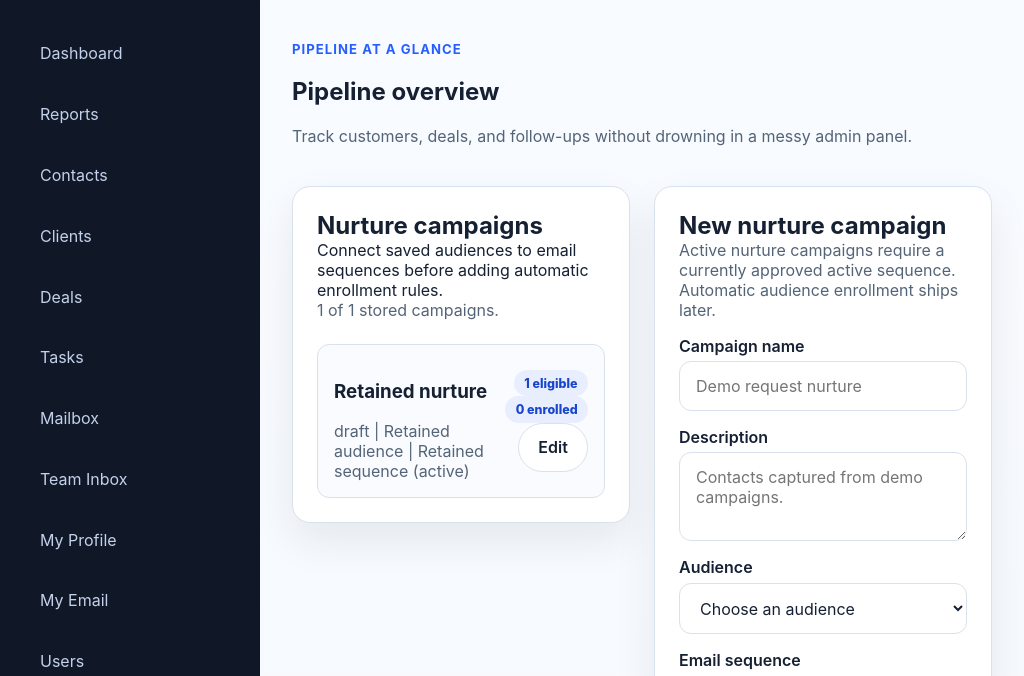
Test: settings nurture campaigns route › disables only new creation at the server-disclosed capacity
This screenshot has width=1024, height=676.
Expected: the text "1 of 1 stored campaigns." is shown, x1=317 y1=300 x2=499 y2=320
Click the button "Edit": (553, 447) x1=518 y1=423 x2=588 y2=472
(page scrolled)
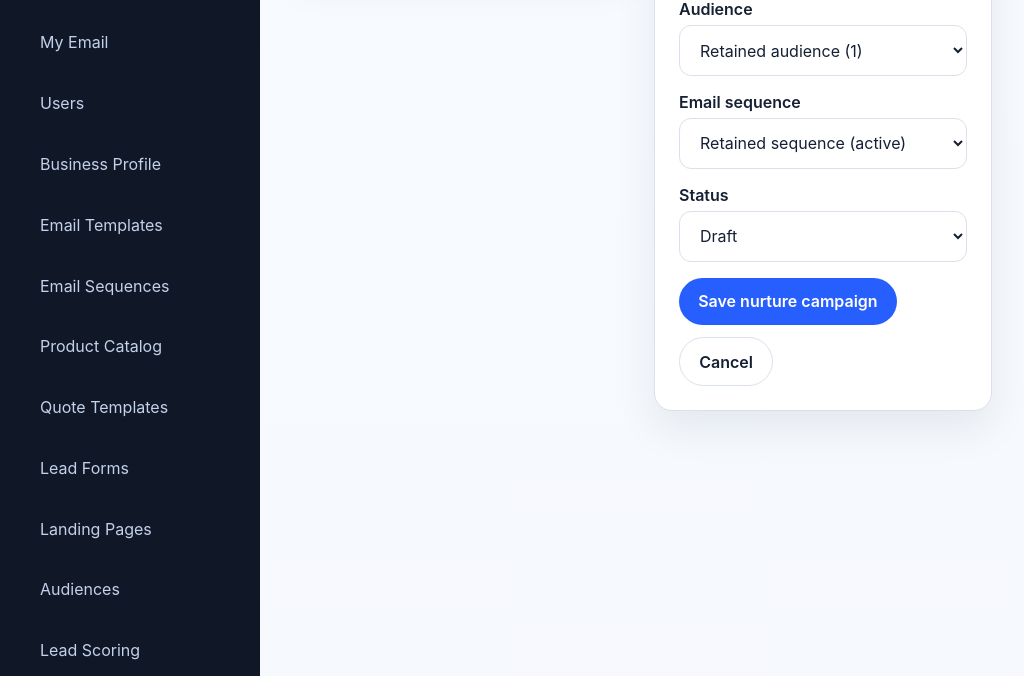
Expected: the button "Save nurture campaign" is enabled, x1=679 y1=278 x2=897 y2=325
